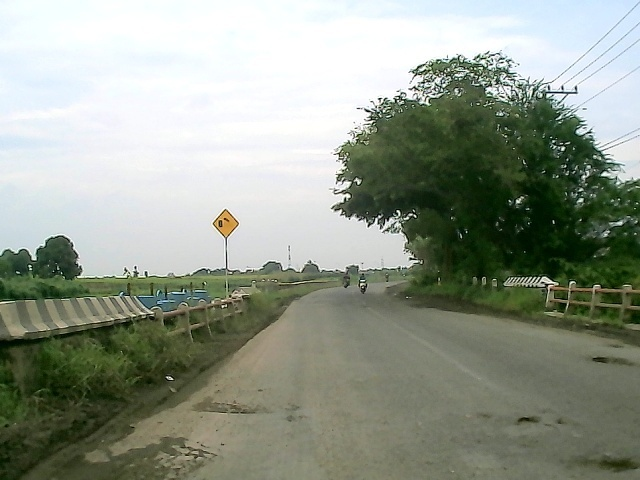Peringatan tepi air: (212, 206, 240, 240)
